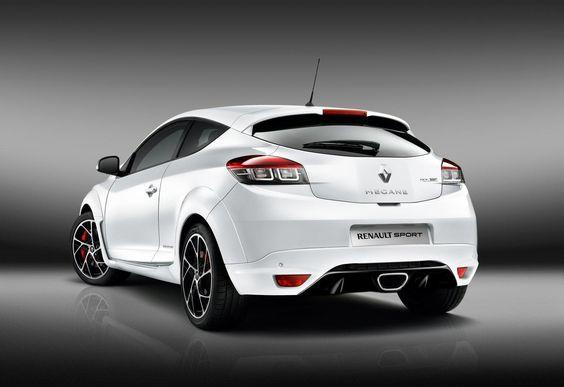Renault: (371, 159, 398, 185)
